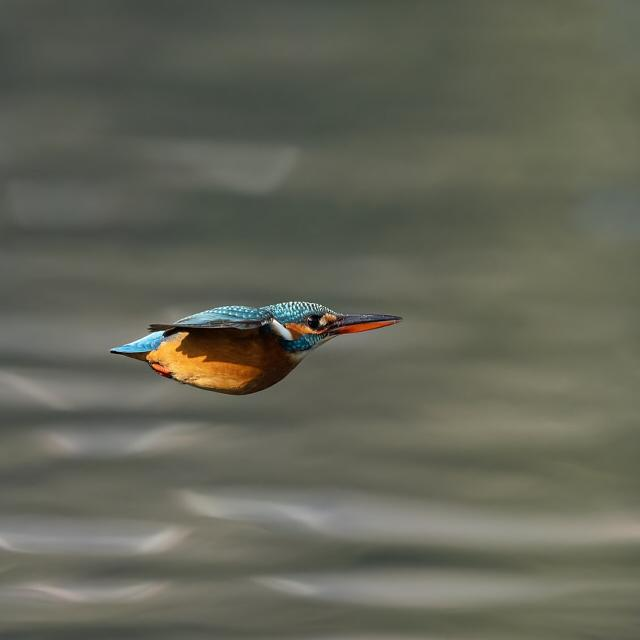kingfisher: (90, 276, 420, 421)
